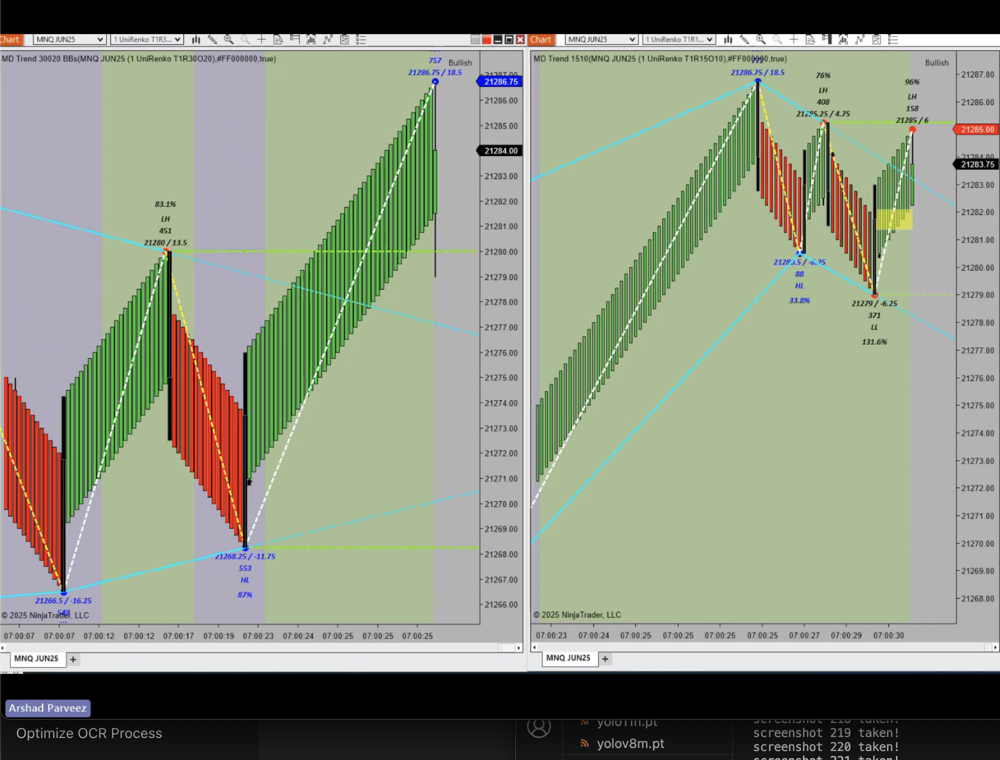HL: (791, 279, 814, 297), (235, 573, 255, 586)
LH: (901, 86, 928, 109), (814, 80, 839, 100), (153, 213, 179, 226)
LL: (862, 317, 888, 338)
